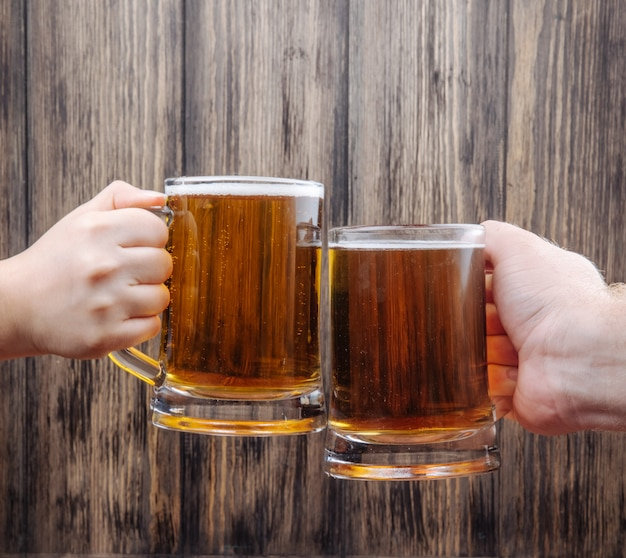alcohol: (107, 166, 326, 438), (308, 222, 518, 477)
